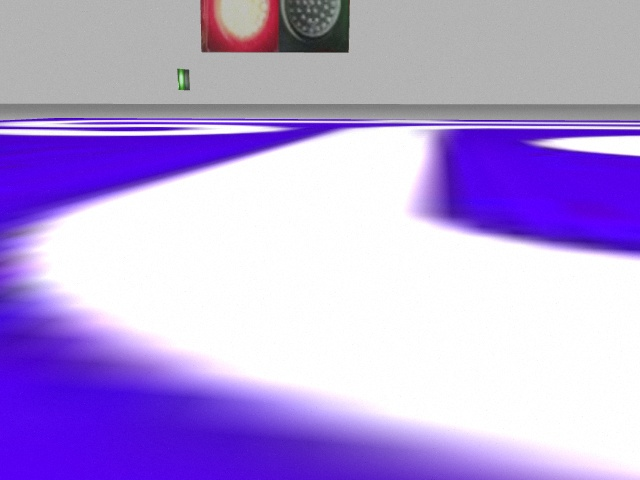red: (199, 1, 278, 52)
